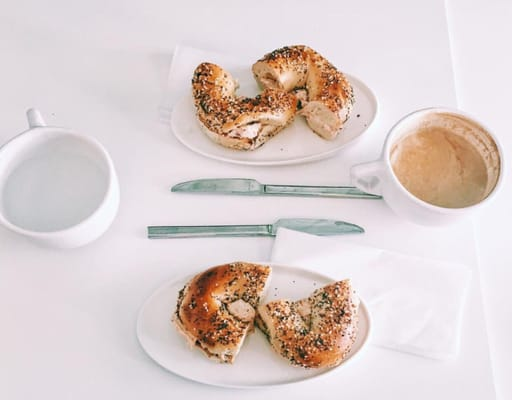pizza: (353, 107, 503, 230)
sandwich: (166, 176, 391, 200)
sushi: (0, 113, 121, 250), (367, 108, 502, 229)
